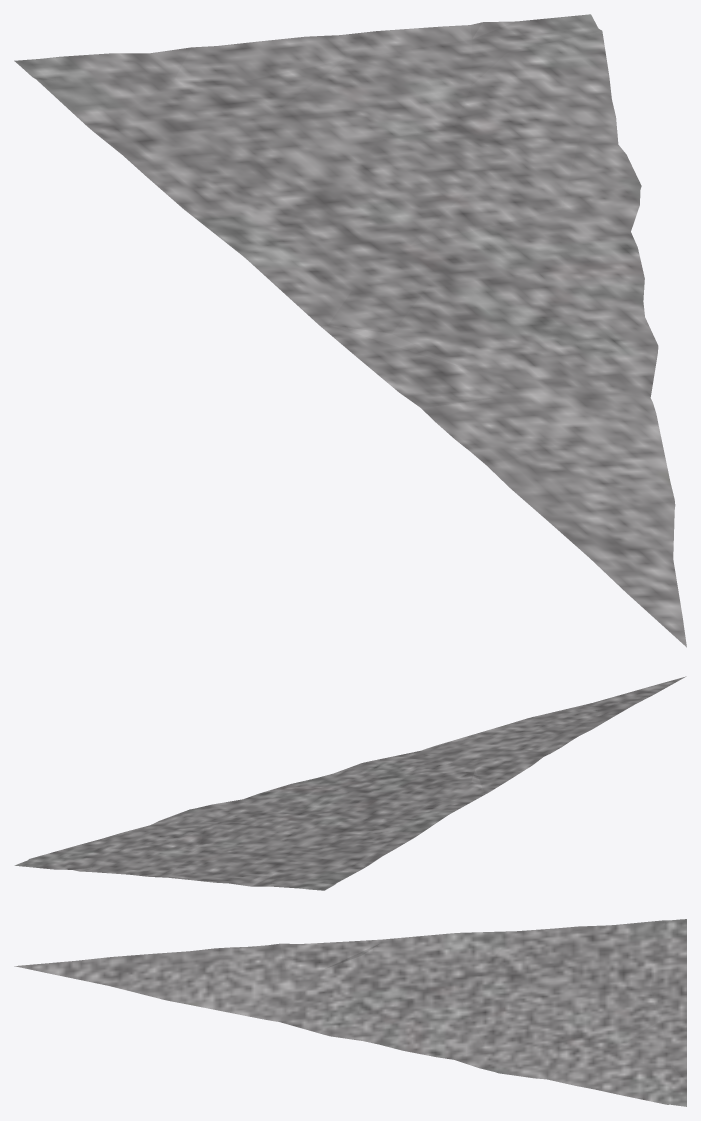
3 renders of one model, top to bottom at view 1: azimuth 30°, elevation 25°; view 2: azimuth 150°, elevation 25°; view 3: azimuth 270°, elevation 25°, orthographic. The views are drawn at different scales.
Bounding box in the file's own units: 0.5539 × 0.0865 × 1.12.
Materials: 1 (1 with a texture image).
